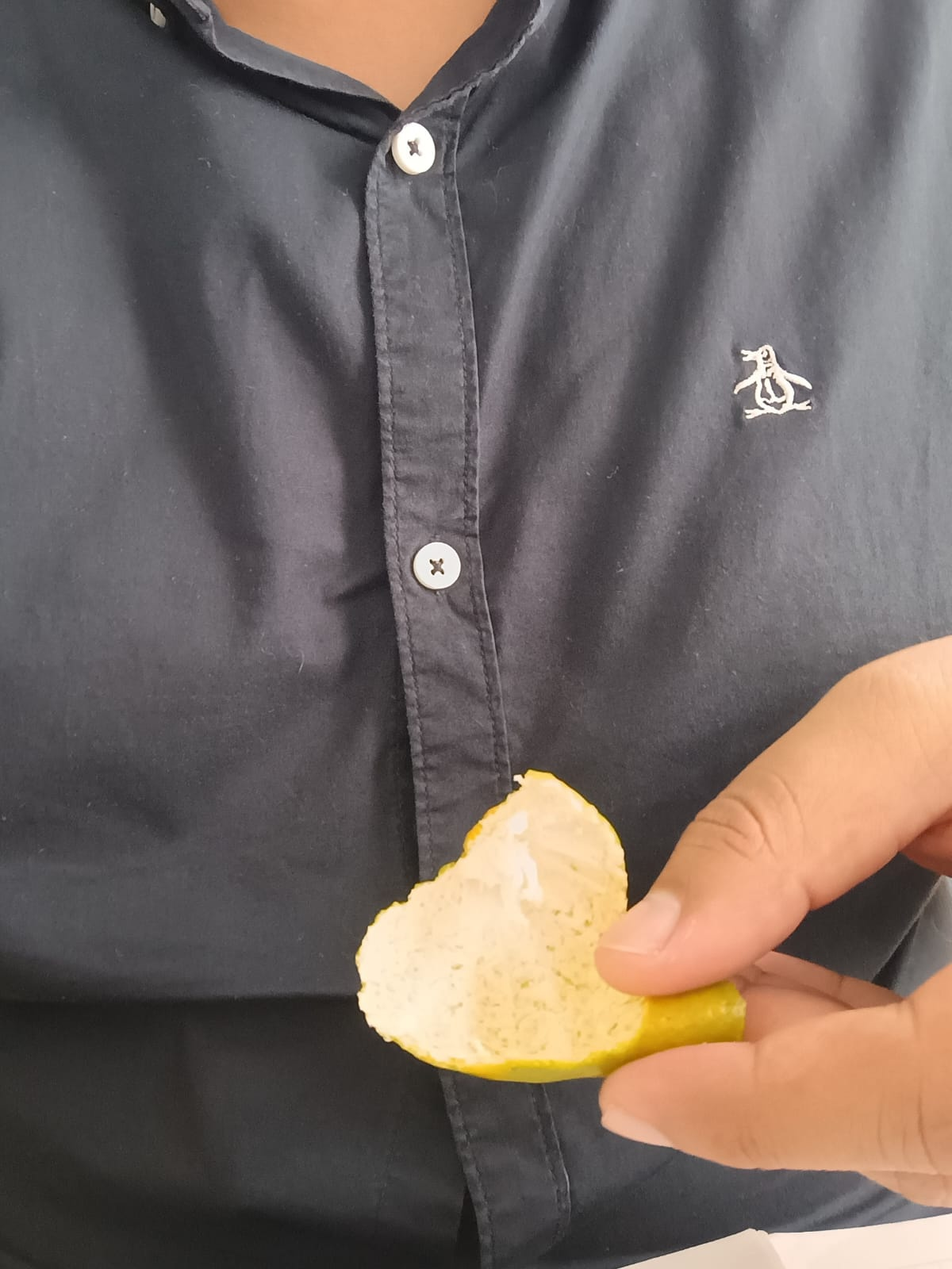Organico: (354, 763, 752, 1081)
